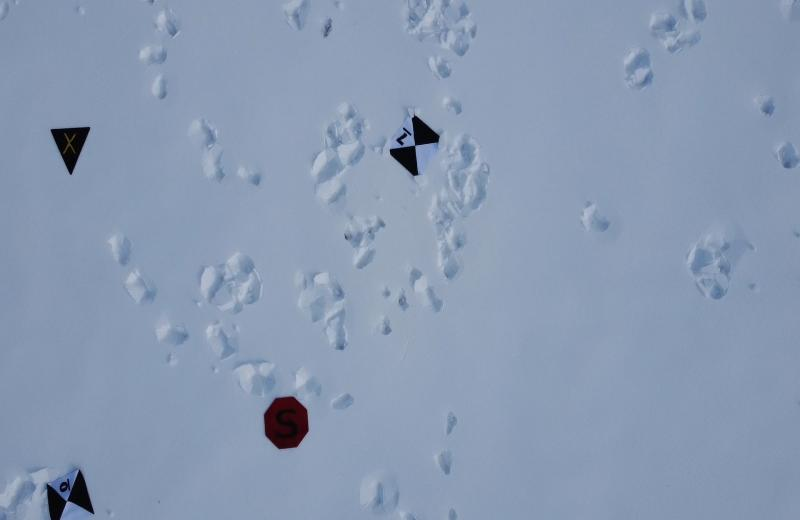Octagon: (264, 395, 310, 449)
Triangle: (49, 120, 92, 178)
